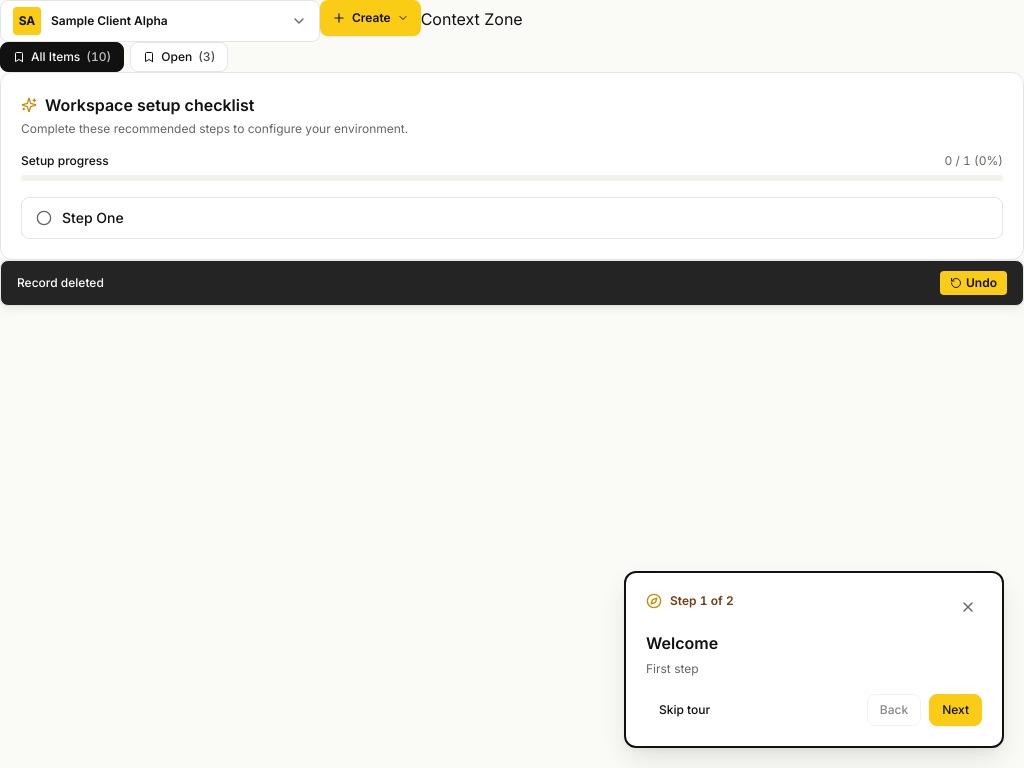
Test: Wendoro UI 2.0 — Theming, Mobile, Forms, Productivity, Workflow & Industry Suite › renders UX adoption patterns and navigation extras interactively
Click the button named "Mark Step One" at coordinates (44, 218), box [36, 210, 52, 226]
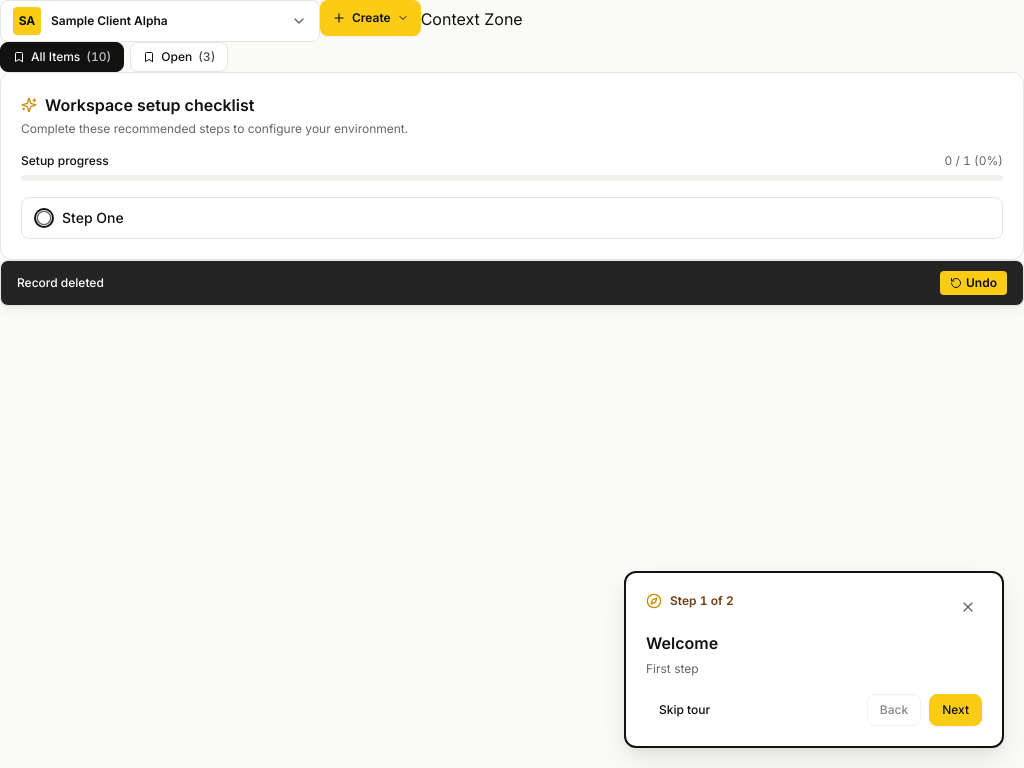
Click the button "Undo" at coordinates (974, 283), box [940, 271, 1007, 295]
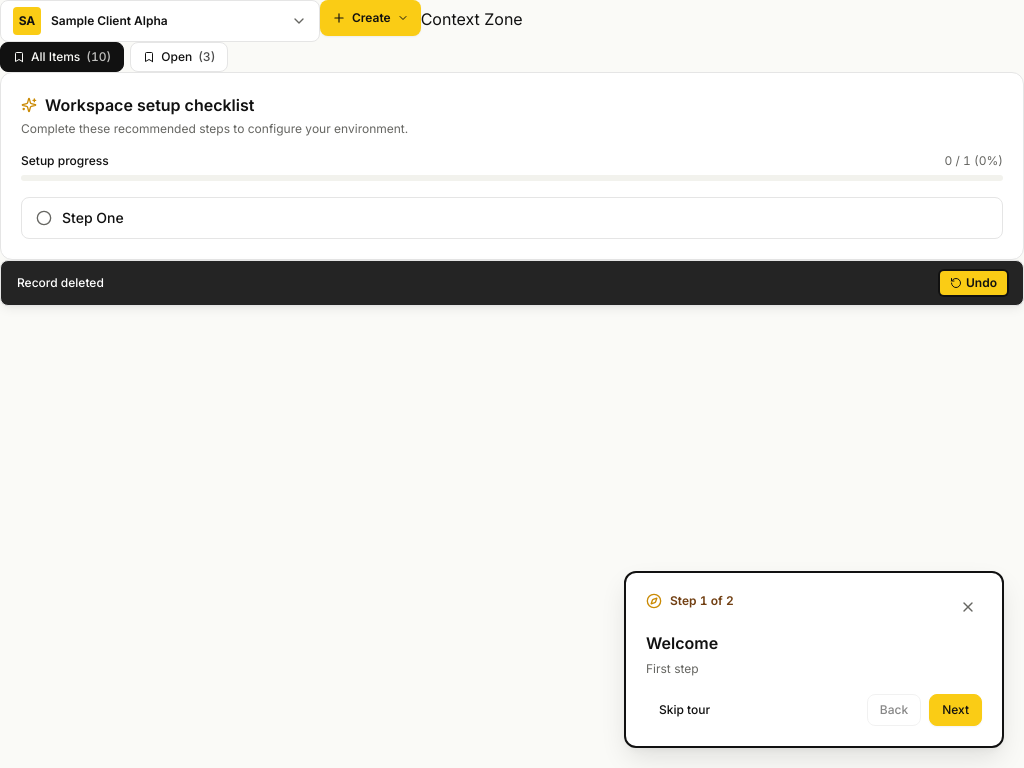
Click the button "Next" at coordinates (956, 710), box [929, 694, 982, 726]
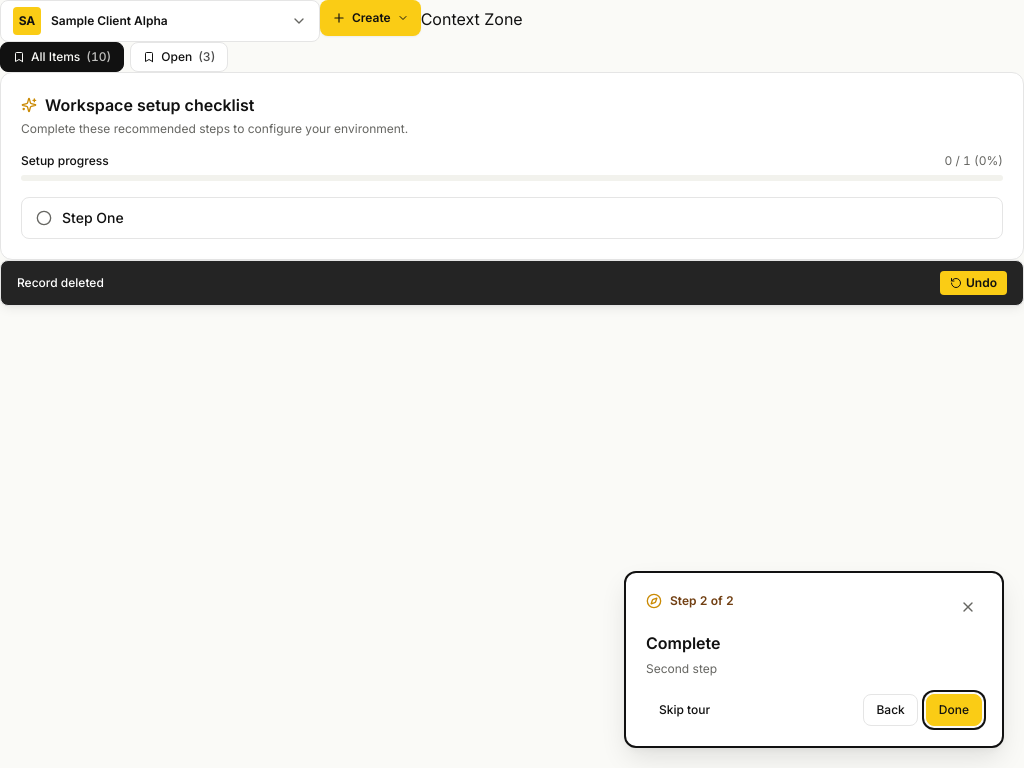
Check: the heading "Complete" is shown, box [646, 632, 720, 652]
